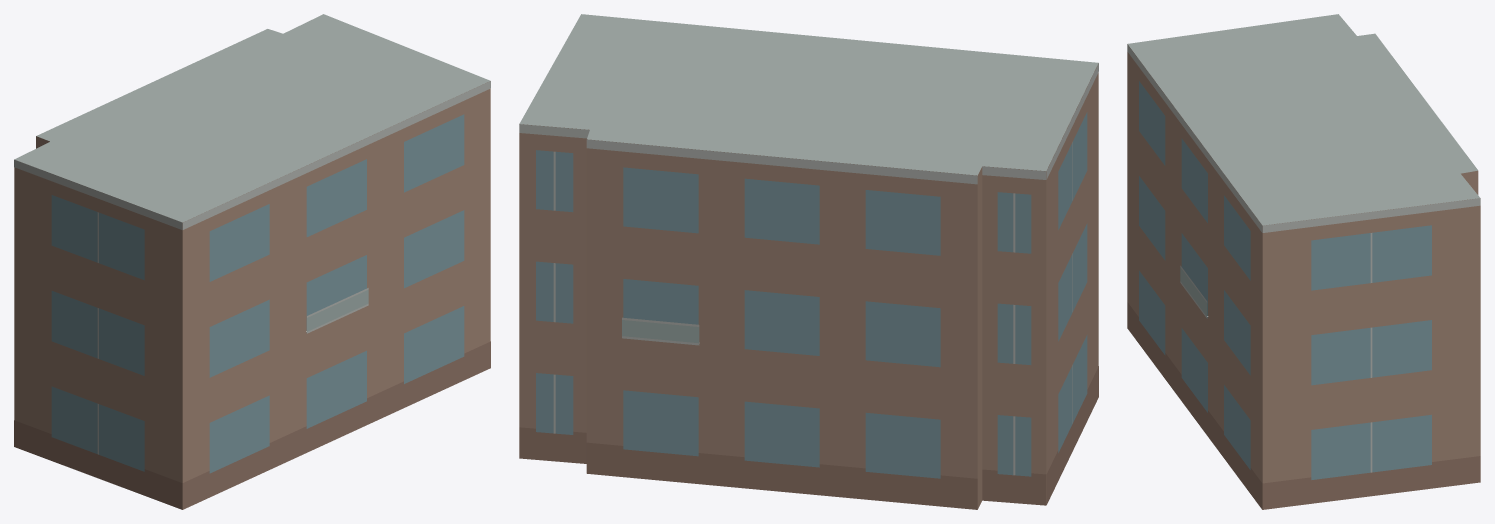
The model's file is survey-upis-32625154.glb.
3 renders of one model, left to right at view 1: azimuth 30°, elevation 25°; view 2: azimuth 150°, elevation 25°; view 3: azimuth 270°, elevation 25°, orthographic. The views are drawn at different scales.
Parts seen in each view (by area): view 1: survey-upis-32625154.tmp; view 2: survey-upis-32625154.tmp; view 3: survey-upis-32625154.tmp.
Boxes of the visible parts, left/top/right/bottom form: survey-upis-32625154.tmp: left=14, top=14, right=490, bottom=509; survey-upis-32625154.tmp: left=519, top=14, right=1098, bottom=509; survey-upis-32625154.tmp: left=1127, top=14, right=1480, bottom=509.
Bounding box in the file's own units: 14.61 × 9.15 × 10.31.
